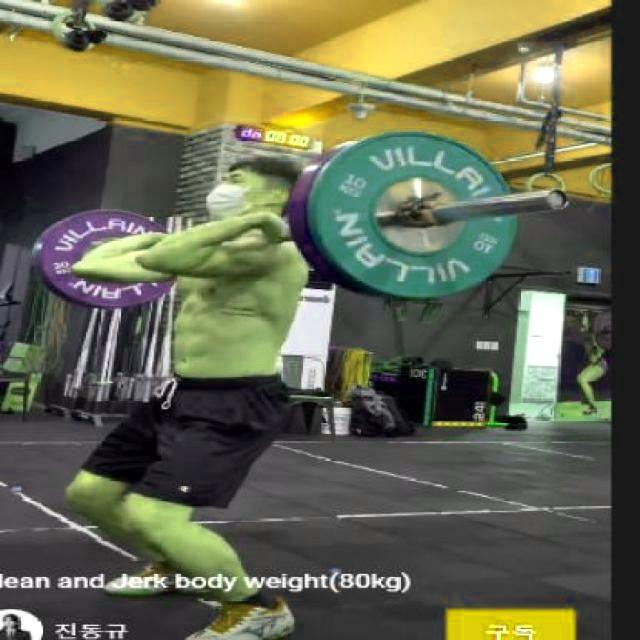barbell: (282, 123, 530, 305)
